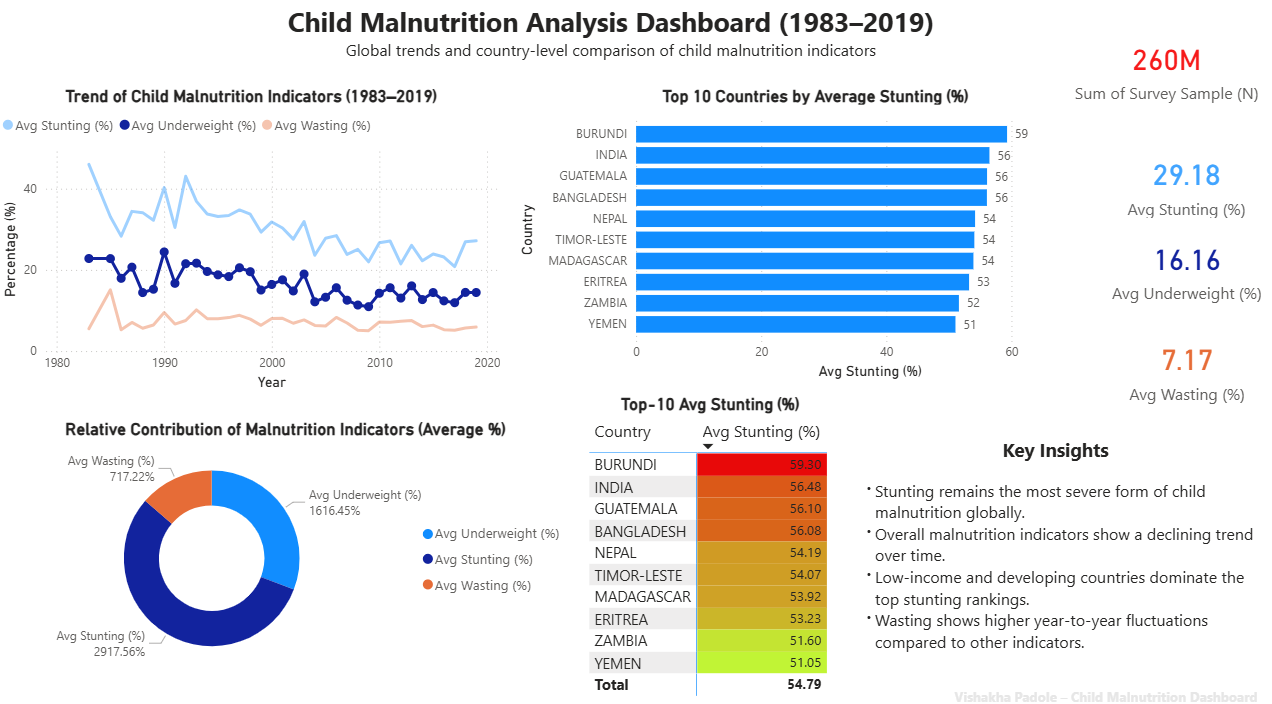

What the dashboard file says about the page in this screenshot:
{"tool":"powerbi","page":{"name":"Page 1","canvas":[1280,720],"ordinal":0},"visuals":[{"type":"lineChart","title":"Trend of Child Malnutrition Indicators (1983–2019)","fields":{"Category":["malnutrition-estimates.Year"],"Y":["malnutrition-estimates.Avg Stunting (%)","malnutrition-estimates.Avg Underweight (%)","malnutrition-estimates.Avg Wasting (%)"]},"box":[0,87.2,508.1,309.3],"z":0},{"type":"clusteredBarChart","title":"Top 10 Countries by Average Stunting (%)","fields":{"Category":["malnutrition-estimates.Country"],"Y":["malnutrition-estimates.Avg Stunting (%)"]},"box":[517,87,601.5,298.9],"z":1000},{"type":"card","fields":{"Values":["malnutrition-estimates.Avg Stunting (%)"]},"box":[1111.6,136,157,100],"z":2000},{"type":"card","fields":{"Values":["malnutrition-estimates.Avg Underweight (%)"]},"box":[1100,219.8,180.2,101.2],"z":3000},{"type":"card","fields":{"Values":["malnutrition-estimates.Avg Wasting (%)"]},"box":[1118.6,320.9,143,100],"z":4000},{"type":"pivotTable","title":"Top-10 Avg Stunting (%)","fields":{"Rows":["malnutrition-estimates.Country"],"Values":["malnutrition-estimates.Avg Stunting (%)"]},"box":[587.2,396.5,251.2,308.1],"z":5000},{"type":"textbox","box":[207,0,812.8,67.4],"z":6000},{"type":"donutChart","title":"Relative Contribution of Malnutrition Indicators (Average %)","fields":{"Y":["malnutrition-estimates.Avg Underweight (%)","malnutrition-estimates.Avg Stunting (%)","malnutrition-estimates.Avg Wasting (%)"]},"box":[0,420.9,576.7,259.3],"z":7000},{"type":"textbox","box":[854.7,433.7,407,258.1],"z":8000},{"type":"card","fields":{"Values":["Sum(malnutrition-estimates.Survey Sample (N))"]},"box":[1058.1,4.7,222.1,131.4],"z":9000},{"type":"textbox","box":[952.8,685,327.6,35.2],"z":10000}]}

Visuals, with their boxes in screenshot pixels (x1, y1, x2, y2), scaled from the page's 1280x720 canvas onto the 1272x704 screenshot:
"Trend of Child Malnutrition Indicators (1983–2019)" lineChart: box=[0, 85, 505, 388]
"Top 10 Countries by Average Stunting (%)" clusteredBarChart: box=[514, 85, 1112, 377]
card - malnutrition-estimates.Avg Stunting (%): box=[1105, 133, 1261, 231]
card - malnutrition-estimates.Avg Underweight (%): box=[1093, 215, 1271, 314]
card - malnutrition-estimates.Avg Wasting (%): box=[1112, 314, 1254, 412]
"Top-10 Avg Stunting (%)" pivotTable: box=[584, 388, 833, 689]
textbox: box=[206, 0, 1013, 66]
"Relative Contribution of Malnutrition Indicators (Average %)" donutChart: box=[0, 412, 573, 665]
textbox: box=[849, 424, 1254, 676]
card - Sum(malnutrition-estimates.Survey Sample (N)): box=[1051, 5, 1271, 133]
textbox: box=[947, 670, 1271, 703]
